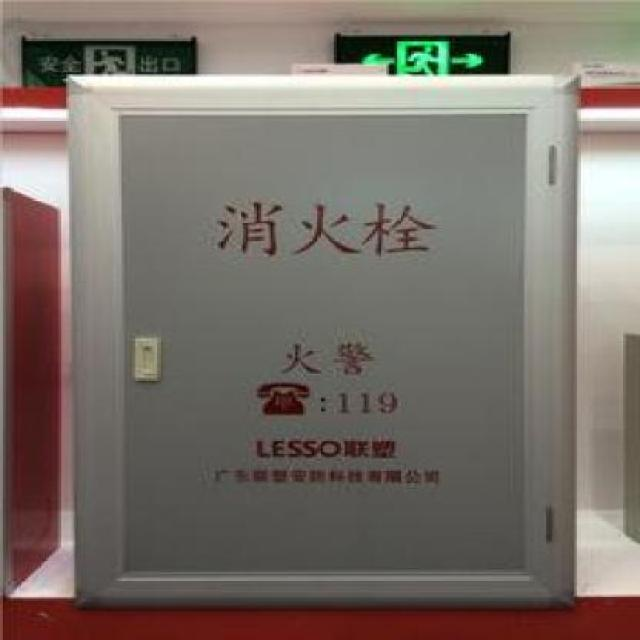firehydrant: (51, 66, 590, 616)
